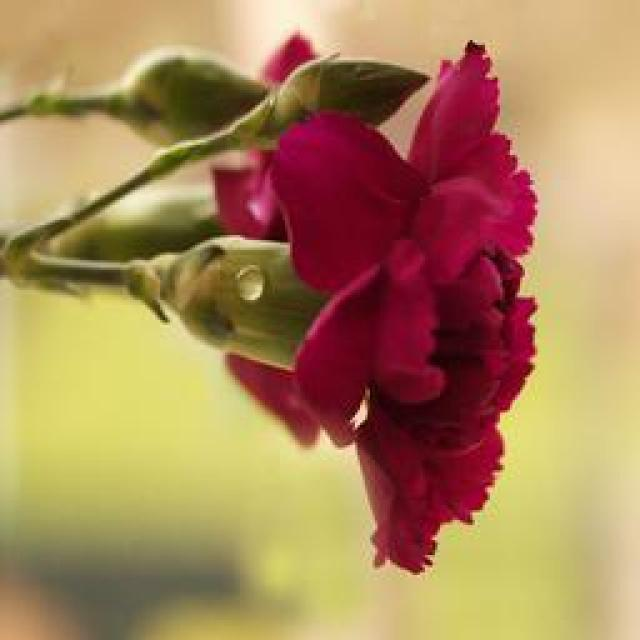carnation: (204, 46, 586, 561)
